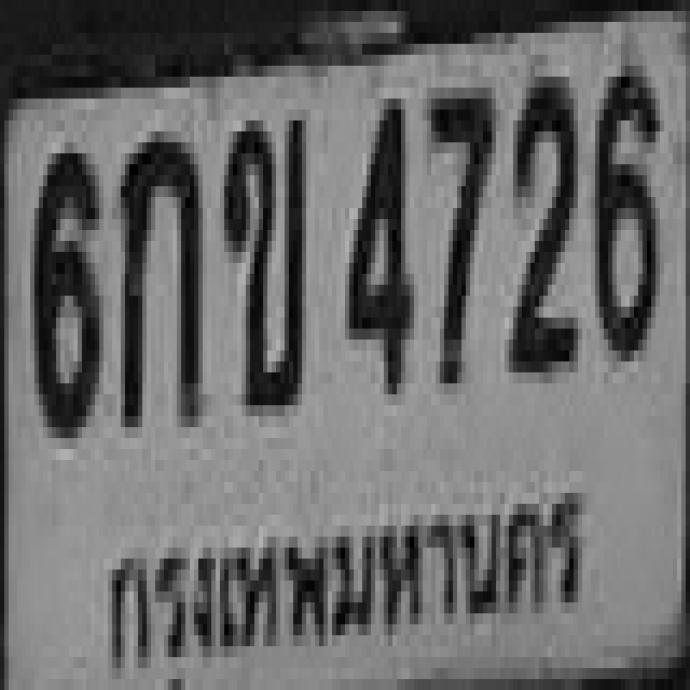2: (506, 69, 573, 364)
4: (343, 89, 406, 384)
6: (29, 141, 95, 425), (591, 57, 654, 350)
7: (426, 78, 490, 380)
A01: (117, 122, 197, 418)
A02: (219, 109, 301, 405)
BKK: (95, 472, 594, 677)
